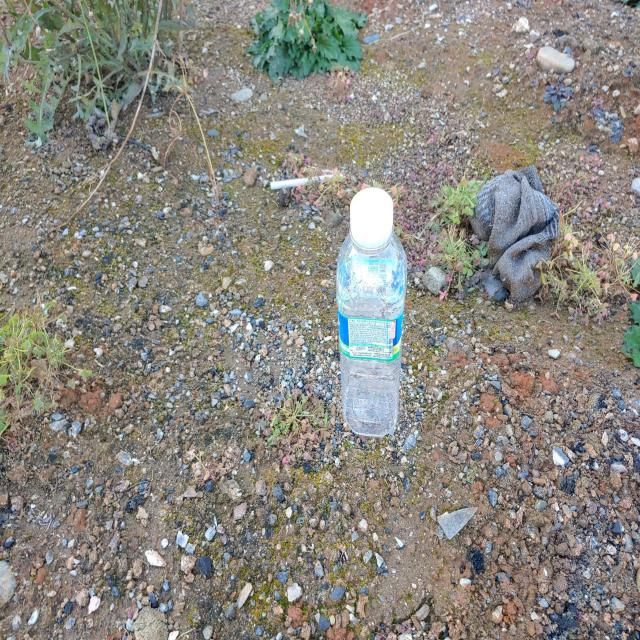plastic: (337, 187, 407, 437)
